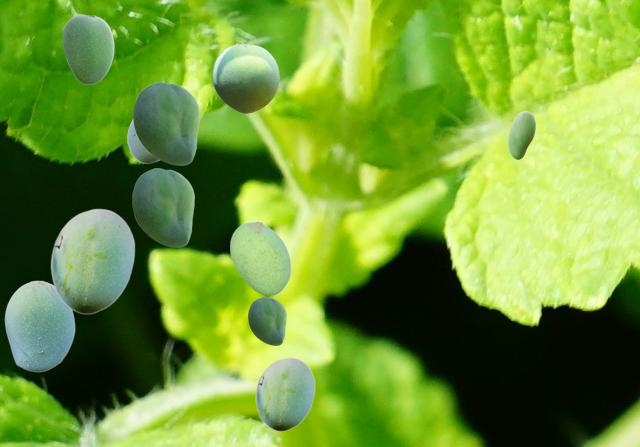green_mango: (50, 208, 134, 313), (4, 280, 74, 371), (133, 82, 198, 164), (132, 168, 193, 246), (212, 43, 278, 112), (230, 221, 289, 294), (255, 357, 314, 430), (62, 14, 113, 83), (248, 297, 285, 344), (127, 118, 159, 162), (508, 111, 534, 158)
